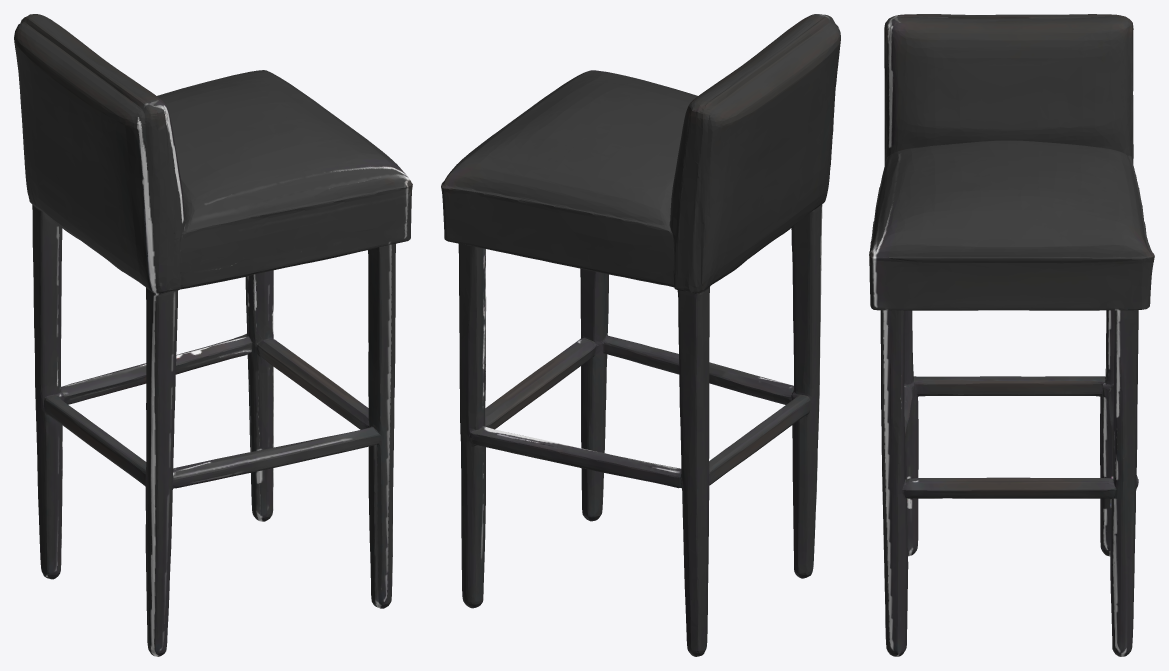
File: bar_stool_37.glb
3 views of the same model, side by side, from view 1: azimuth 30°, elevation 25°; view 2: azimuth 150°, elevation 25°; view 3: azimuth 270°, elevation 25° (orthographic). The views are drawn at different scales.
Parts seen in each view (by area): view 1: bar_stool_37.obj; view 2: bar_stool_37.obj; view 3: bar_stool_37.obj.
Part boxes in pixels (left/top/right/bottom): bar_stool_37.obj: left=14, top=14, right=412, bottom=656; bar_stool_37.obj: left=441, top=14, right=840, bottom=656; bar_stool_37.obj: left=869, top=14, right=1154, bottom=656.
Size of the model in its own units: 0.5164 by 1 by 0.4861.
Materials: 1 (1 with a texture image).
